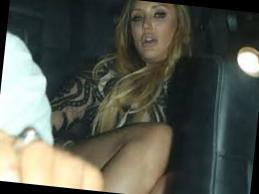Drunk: (128, 4, 174, 57)
